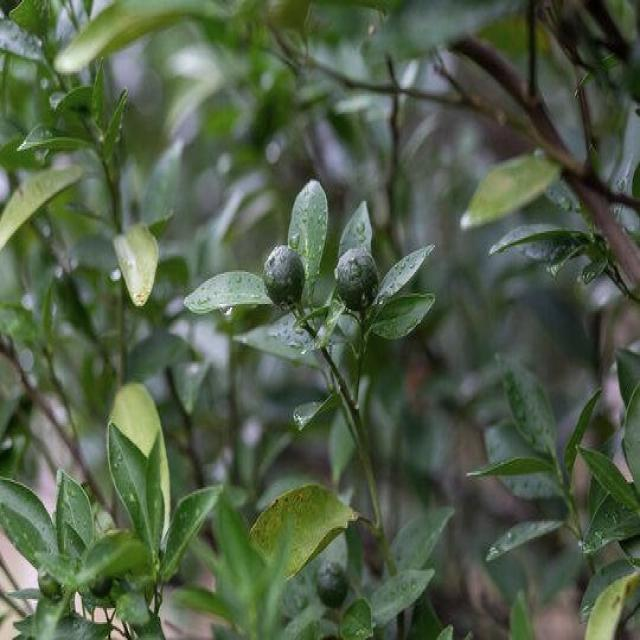Jeruk Belum Matang: (336, 249, 378, 313), (264, 246, 306, 306), (316, 562, 348, 604)
